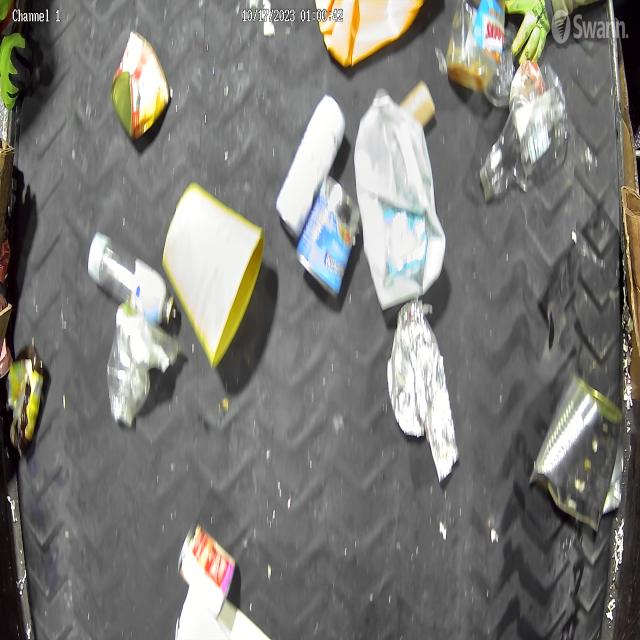can: (530, 374, 622, 532), (297, 177, 358, 298), (112, 30, 172, 139), (178, 521, 236, 600)
milk_jug: (353, 86, 444, 308)
non_white_jug: (317, 1, 430, 66)
plastic_bottle: (478, 60, 568, 202), (88, 231, 176, 330), (106, 306, 154, 428)
